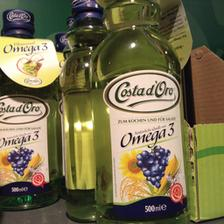Oel: (85, 0, 189, 224), (0, 8, 60, 211)
